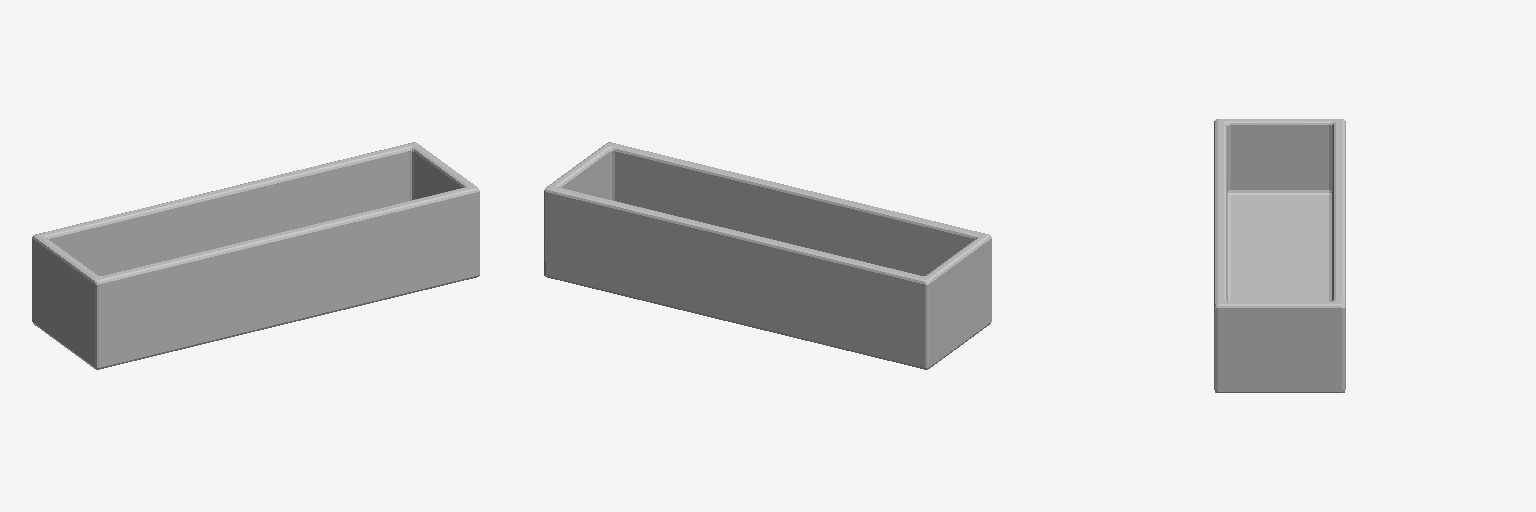
The model's file is BAK PUPUK POLOS.obj.
3 views of the same model, side by side, from view 1: azimuth 30°, elevation 25°; view 2: azimuth 150°, elevation 25°; view 3: azimuth 270°, elevation 25° (orthographic).
Parts seen in each view (by area): view 1: pCube34; view 2: pCube34; view 3: pCube34.
Part boxes in pixels (bbox=[...]): pCube34: bbox=[32, 142, 479, 369]; pCube34: bbox=[544, 142, 991, 369]; pCube34: bbox=[1214, 119, 1345, 392].
Size of the model in its own units: 4.76 by 1.06 by 1.4.